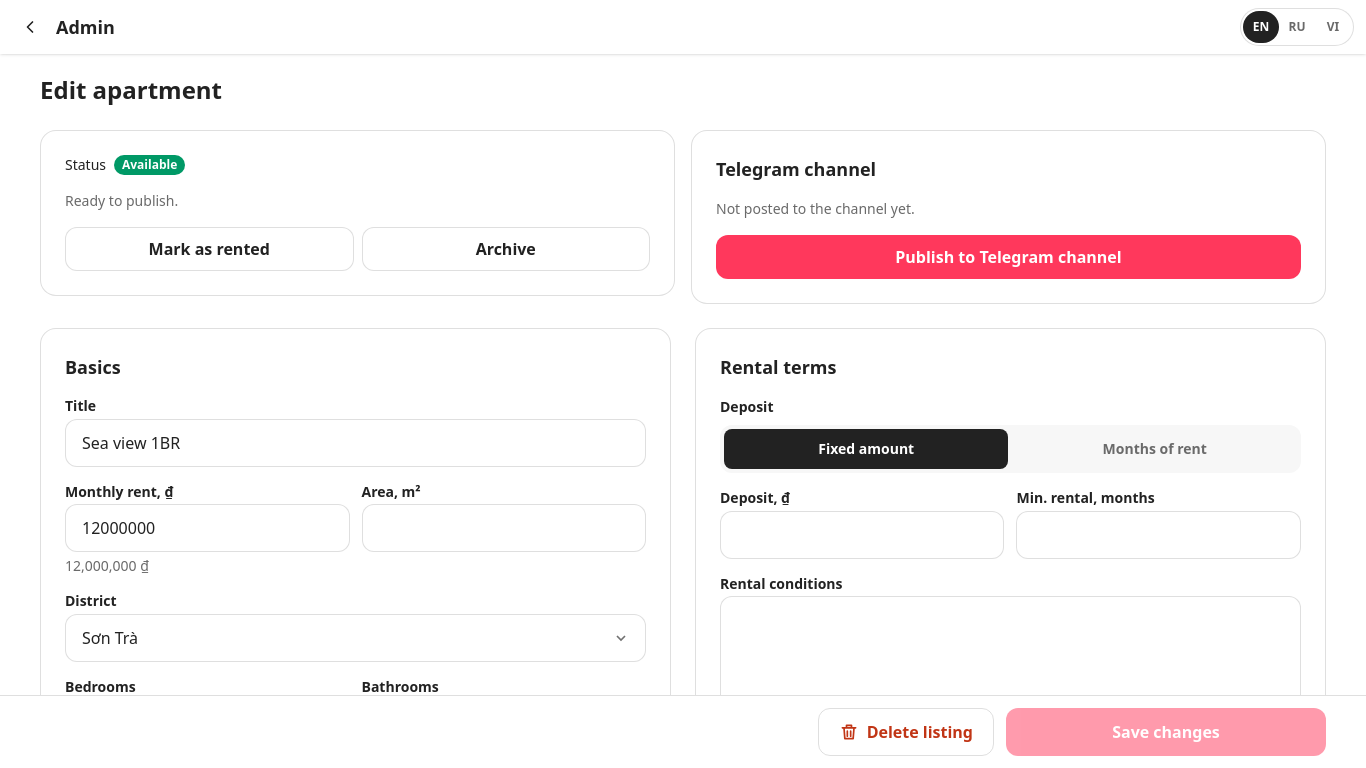
Scenario: Telegram channel publishing › shows why publishing is blocked when the server is not configured
Click the button "Publish to Telegram channel" at (1008, 257), box [716, 235, 1301, 279]
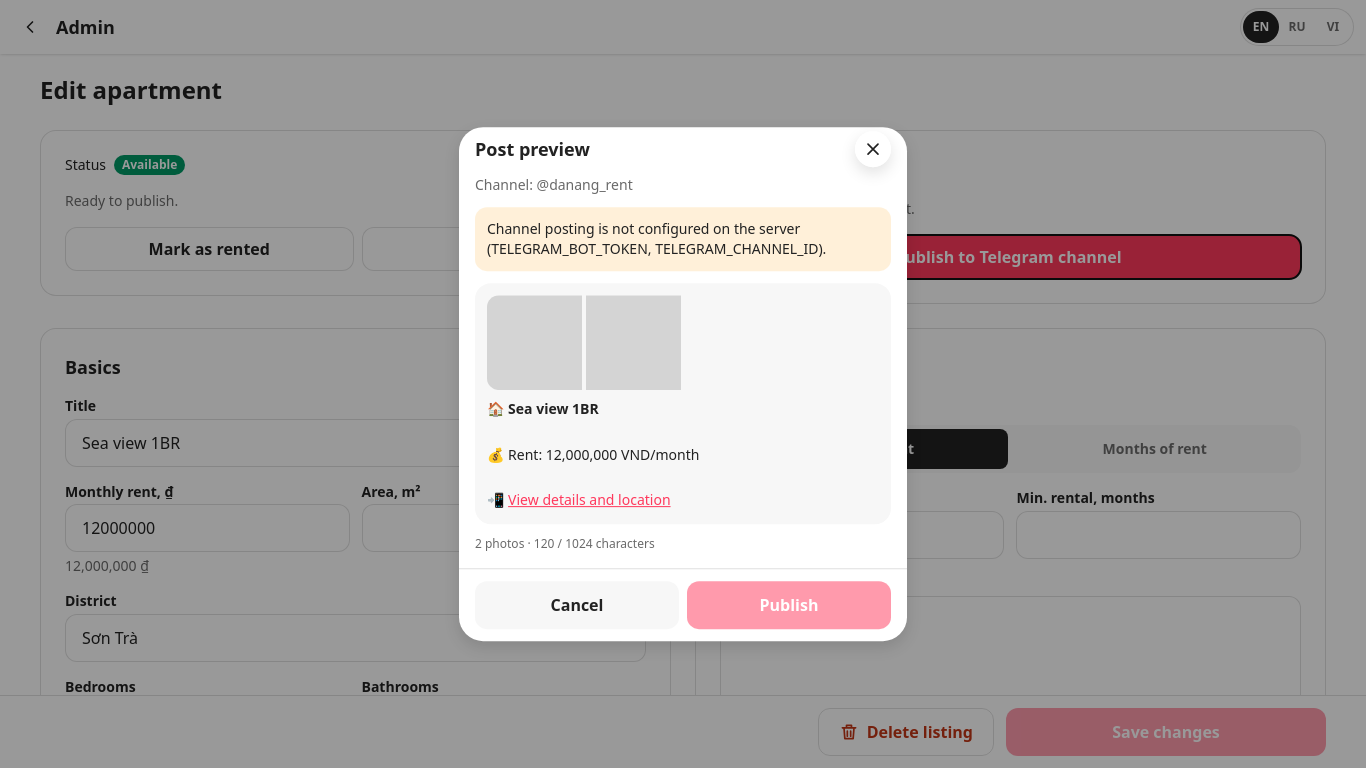
Expected: the message shows "Channel posting is not configured on the server", [487, 219, 826, 258]
Expected: the button "Publish" is disabled, [687, 581, 891, 629]
